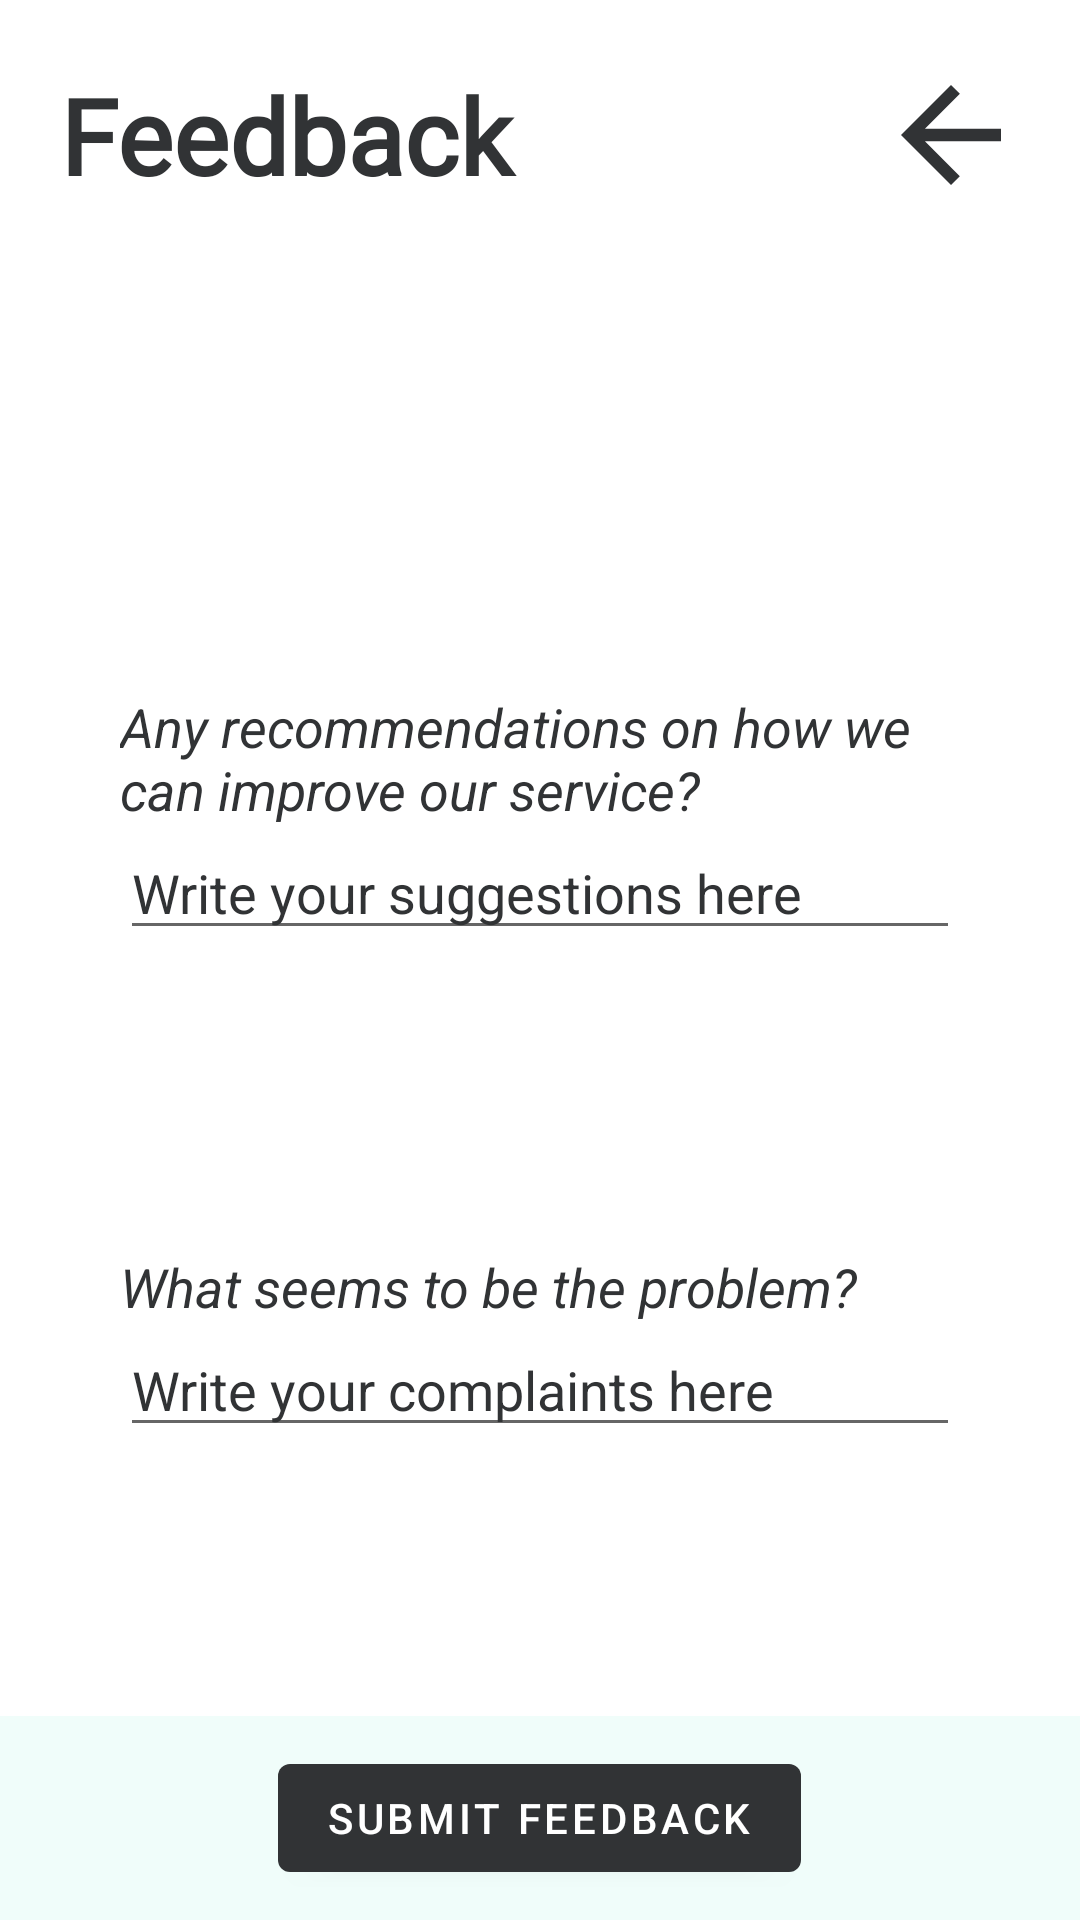

Screen size 1080x1920. Icon name, then its box in pixels as [x1=x1, y1=y1, x2=x2, y2=y2]:
back arrow: [x1=901, y1=85, x2=1001, y2=185]
